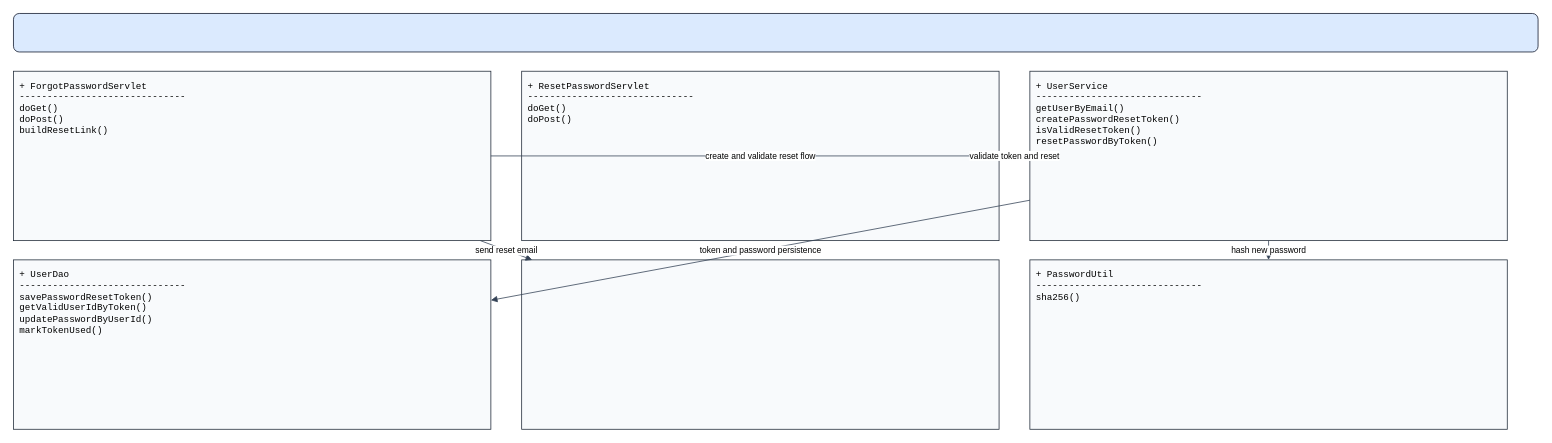
Some shapes in this 1552 by 443 pixel diagram are drawn without their labels. The shapes that lost their labels are listed below. From the top down, each one's centre as x and y in pixels, then its label:
At [775,32]: "Class Diagram - Forgot Password and Reset Password".
At [760,344]: "+ EmailUtil ------------------------------ sendForgotPasswordEmail()".
